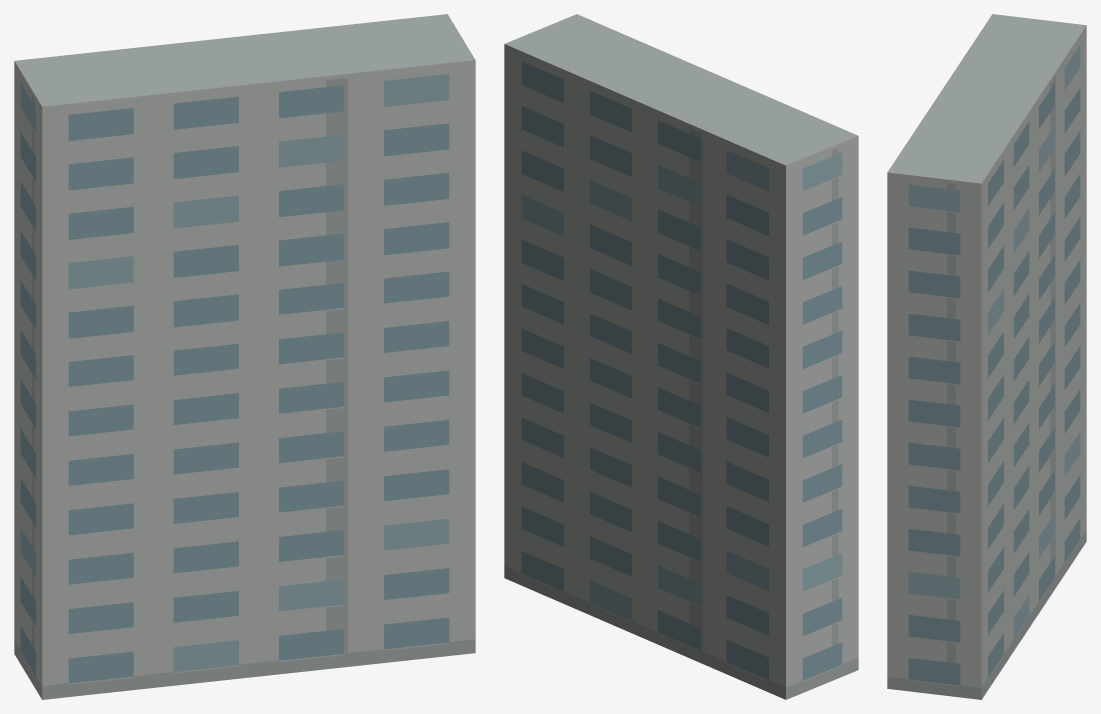
The model's file is residential-74e5b309-34a8-4b2d-ae62-53d79f533b79.glb.
3 renders of one model, left to right at view 1: azimuth 30°, elevation 25°; view 2: azimuth 150°, elevation 25°; view 3: azimuth 270°, elevation 25°, orthographic. The views are drawn at different scales.
Parts seen in each view (by area): view 1: residential-74e5b309-34a8-4b2d-ae62-53d79f533b79.tmp; view 2: residential-74e5b309-34a8-4b2d-ae62-53d79f533b79.tmp; view 3: residential-74e5b309-34a8-4b2d-ae62-53d79f533b79.tmp.
Part boxes in pixels (<box>): residential-74e5b309-34a8-4b2d-ae62-53d79f533b79.tmp: <box>14,14,475,699</box>; residential-74e5b309-34a8-4b2d-ae62-53d79f533b79.tmp: <box>504,14,858,699</box>; residential-74e5b309-34a8-4b2d-ae62-53d79f533b79.tmp: <box>887,14,1086,699</box>.
Size of the model in its own units: 24.67 by 35 by 12.26.
